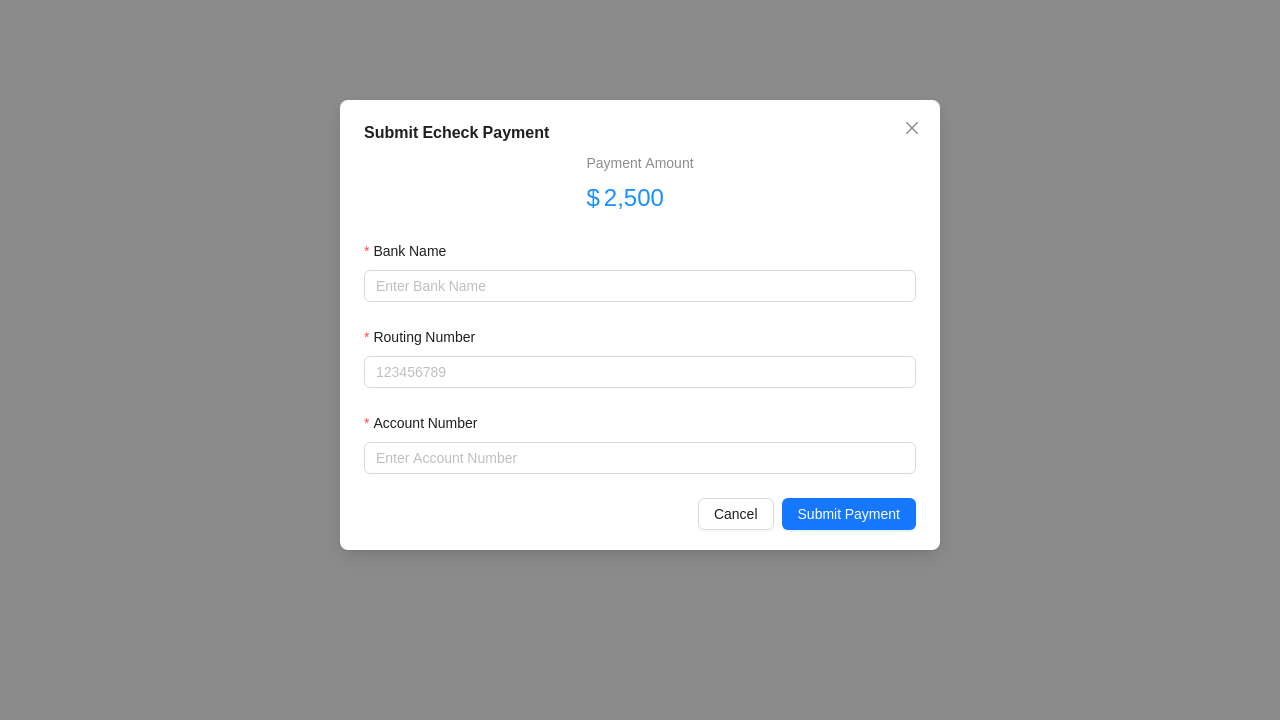
ECheckPaymentModal › validates required fields
Click the button "Submit Payment".
click(849, 514)  # box [782,498,916,530]
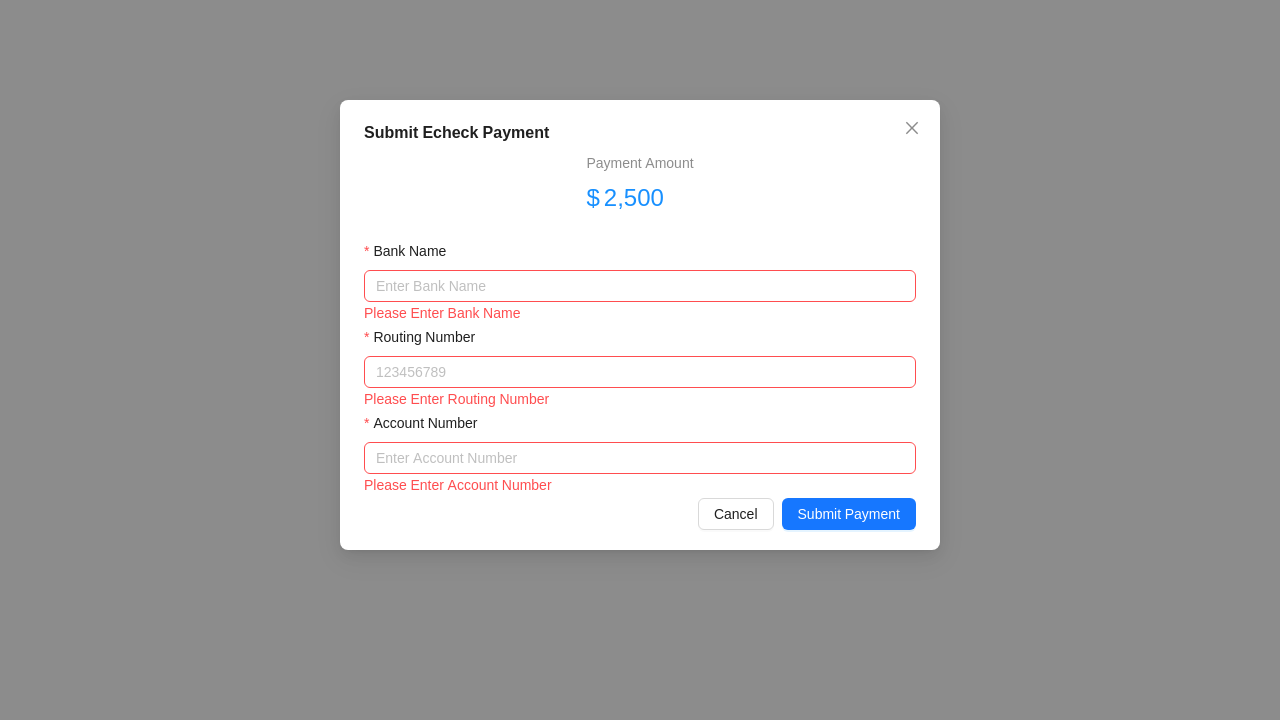
Expected: the text "Please Enter Bank Name" is shown, [364,303,520,322]
Expected: the text "Please Enter Routing Number" is shown, [364,389,549,408]
Expected: the text "Please Enter Account Number" is shown, [364,475,552,494]
